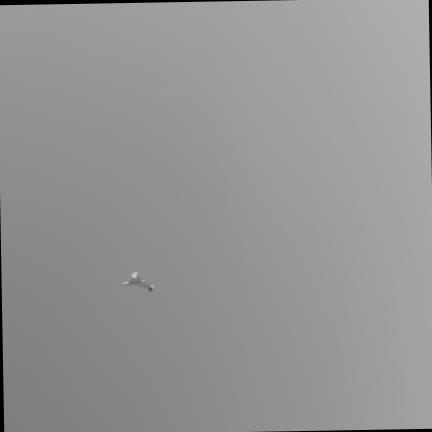Shahed: (123, 271, 153, 290)
